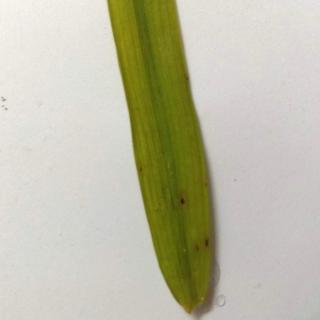bercak-Cokelat: (192, 233, 215, 253), (174, 191, 189, 210)
